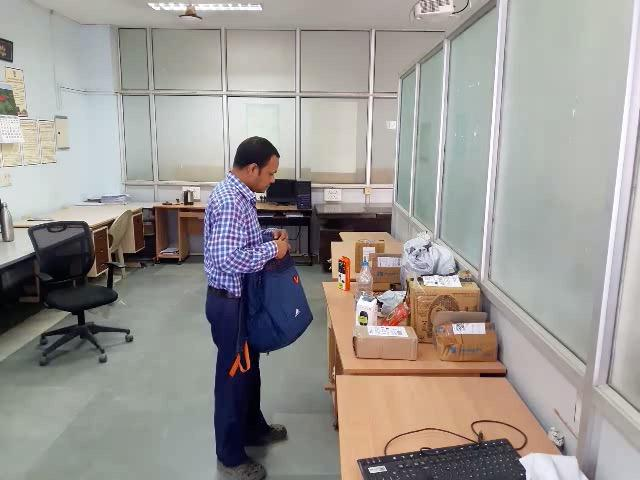shoplifting: (191, 197, 379, 371)
